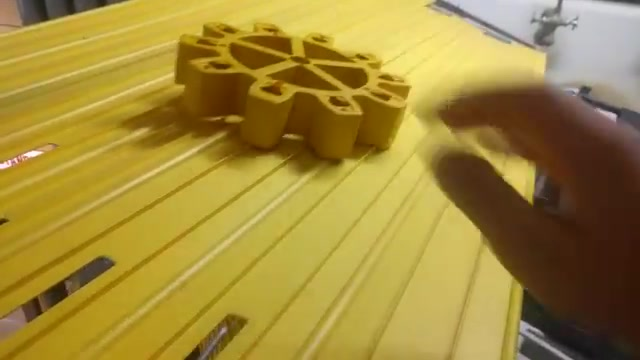gear: (172, 2, 418, 171)
